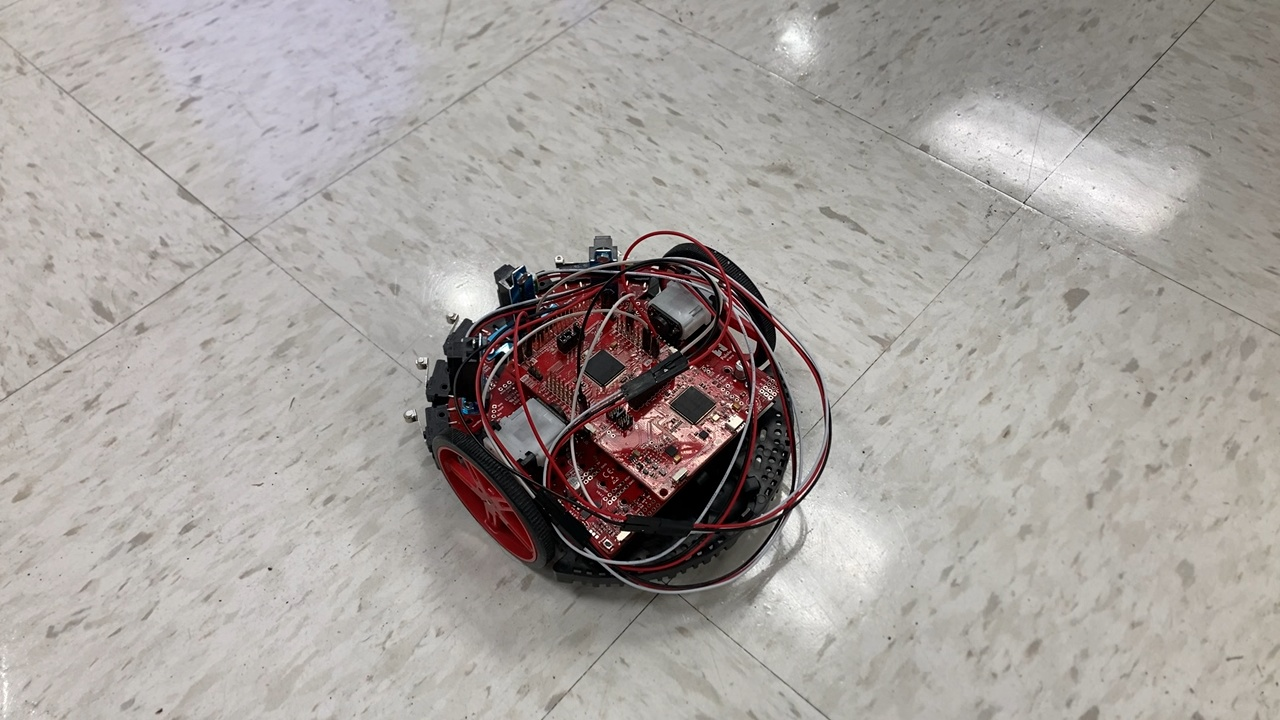robot: (404, 219, 840, 602)
